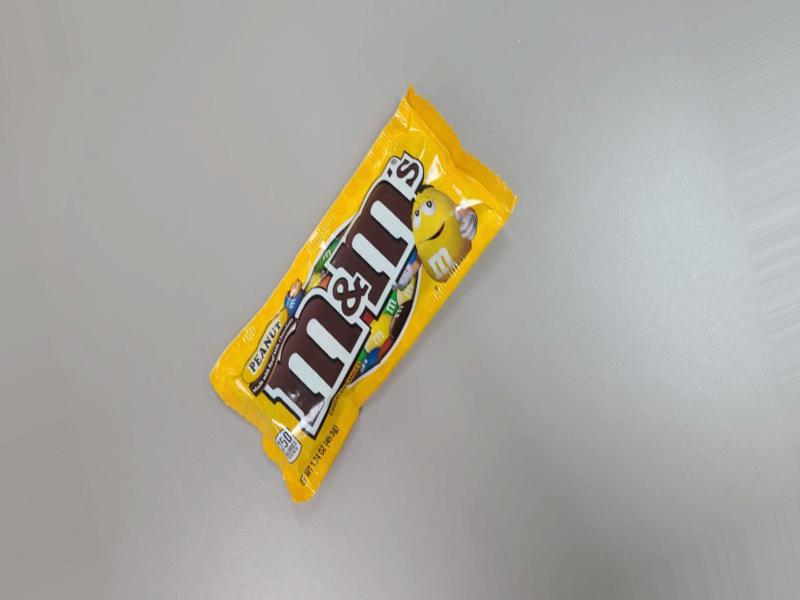m&m: (213, 96, 518, 496)
